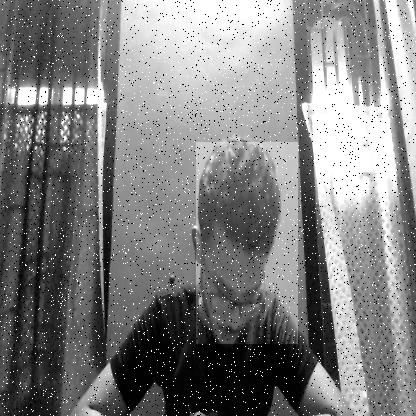Distracted: (197, 142, 298, 344)
